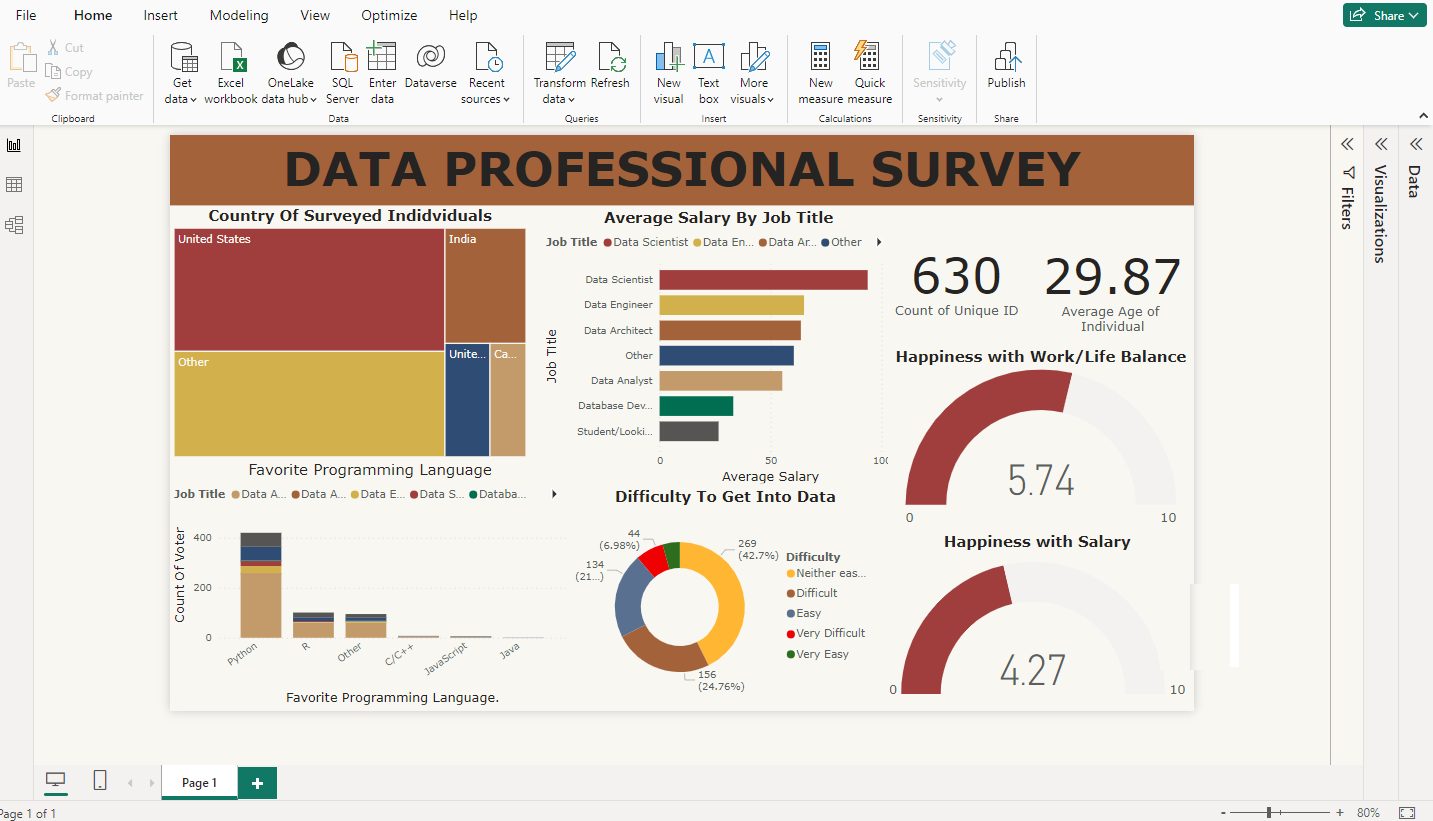

This screenshot's page, from the dashboard's own definition file:
{"tool":"powerbi","page":{"name":"Page 1","canvas":[1280,720],"ordinal":0},"visuals":[{"type":"textbox","box":[0,0,1280,88.5],"z":0},{"type":"card","fields":{"Values":["Count(Data Professional Survey.Unique ID)"]},"box":[889,91.8,189,179.5],"z":1000},{"type":"card","fields":{"Values":["Avg(Data Professional Survey.Q10 - Current Age)"]},"box":[1078.1,91.8,201.4,182.2],"z":2000},{"type":"barChart","title":"Average Salary By Job Title","fields":{"Category":["Data Professional Survey.Q1 - Which Title Best Fits your Current Role?.1"],"Y":["Avg(Data Professional Survey.Average Salary)"],"Series":["Data Professional Survey.Q1 - Which Title Best Fits your Current Role?.1"]},"box":[464.4,91.3,441.3,349],"z":3000},{"type":"treemap","title":"Country Of Surveyed Indidviduals","fields":{"Group":["Data Professional Survey.Q11 - Which Country do you live in?.1"],"Values":["CountNonNull(Data Professional Survey.Q11 - Which Country do you live in?.1)"]},"box":[0,88.6,450,318.6],"z":4000},{"type":"gauge","title":"Happiness with Work/Life Balance","fields":{"Y":["Avg(Data Professional Survey.Q6 - How Happy are you in your Current Position with the following? (Work/Life Balance))"],"MinValue":["Min(Data Professional Survey.Q6 - How Happy are you in your Current Position with the following? (Work/Life Balance))1"],"MaxValue":["Max(Data Professional Survey.Q6 - How Happy are you in your Current Position with the following? (Work/Life Balance))2"]},"box":[896.9,264.6,382.3,231.2],"z":5000},{"type":"gauge","title":"Happiness with Salary","fields":{"Y":["Avg(Data Professional Survey.Q6 - How Happy are you in your Current Position with the following? (Salary))"],"MinValue":["Min(Data Professional Survey.Q6 - How Happy are you in your Current Position with the following? (Salary))"],"MaxValue":["Max(Data Professional Survey.Q6 - How Happy are you in your Current Position with the following? (Salary))"]},"box":[888.5,495.8,390.6,221.9],"z":6000},{"type":"donutChart","title":"Difficulty To Get Into Data","fields":{"Category":["Data Professional Survey.Q7 - How difficult was it for you to break into Data?"],"Y":["CountNonNull(Data Professional Survey.Q7 - How difficult was it for you to break into Data?)"]},"box":[500,440,388.6,277.1],"z":7000},{"type":"columnChart","title":"Favorite Programming Language","fields":{"Category":["Data Professional Survey.Q5 - Favorite Programming Language.1"],"Y":["CountNonNull(Data Professional Survey.Unique ID)"],"Series":["Data Professional Survey.Q1 - Which Title Best Fits your Current Role?.1"]},"box":[0,406.7,500,310.6],"z":8000}]}

Visuals, with their boxes on the page's 1280x720 design canvas (x1, y1, x2, y2). These are canvas units, not pixel positions in the 1433x821 screenshot, which may show the page scaled, cropped or inside an application window:
textbox: (0,0,1280,88)
card - Count(Data Professional Survey.Unique ID): (889,92,1078,271)
card - Avg(Data Professional Survey.Q10 - Current Age): (1078,92,1280,274)
"Average Salary By Job Title" barChart: (464,91,906,440)
"Country Of Surveyed Indidviduals" treemap: (0,89,450,407)
"Happiness with Work/Life Balance" gauge: (897,265,1279,496)
"Happiness with Salary" gauge: (888,496,1279,718)
"Difficulty To Get Into Data" donutChart: (500,440,889,717)
"Favorite Programming Language" columnChart: (0,407,500,717)
